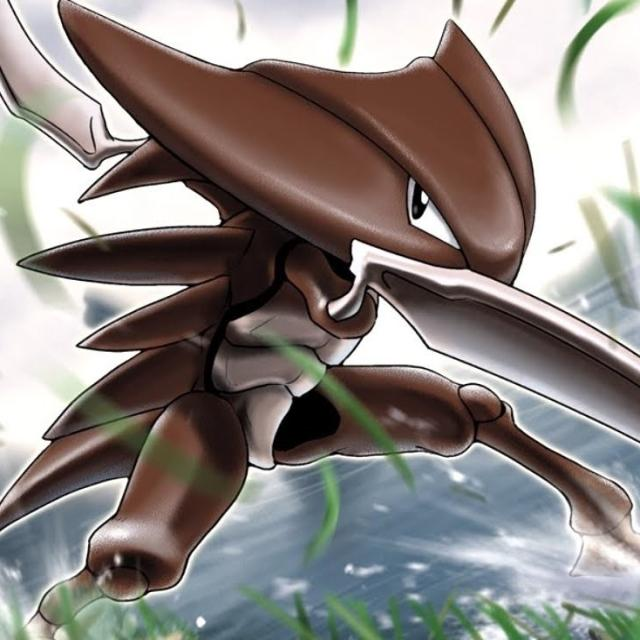Kabutops: (19, 18, 574, 571)
